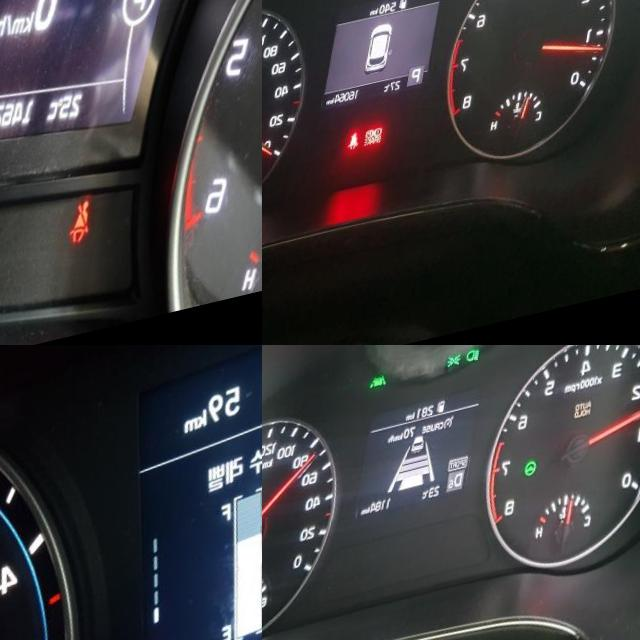Low beam: (475, 362, 490, 378)
SideLamp: (456, 367, 471, 381)
